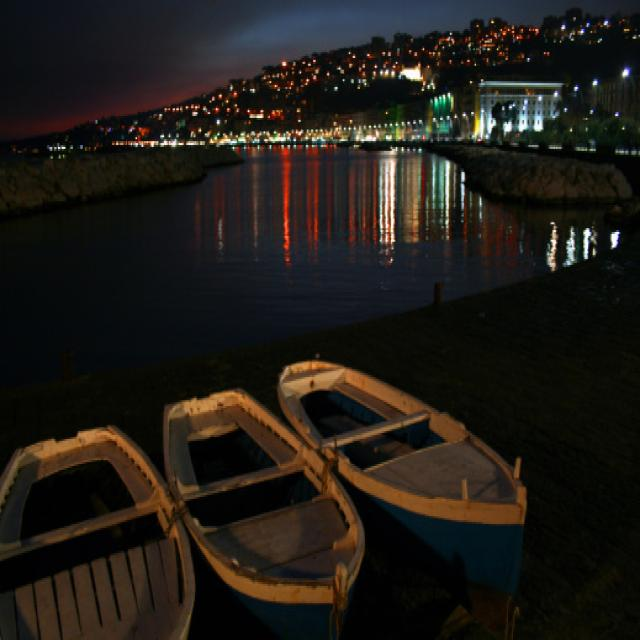Boat: (284, 309, 575, 640), (165, 366, 344, 640), (0, 382, 185, 640)
